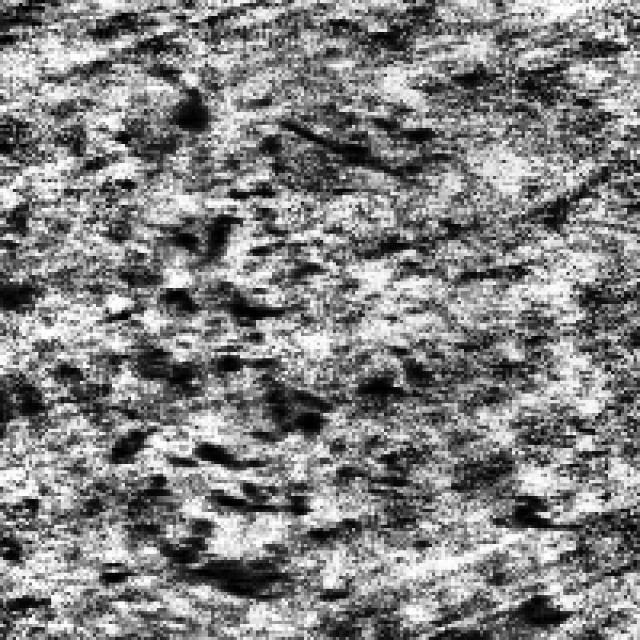Crazing: (96, 80, 390, 614)
